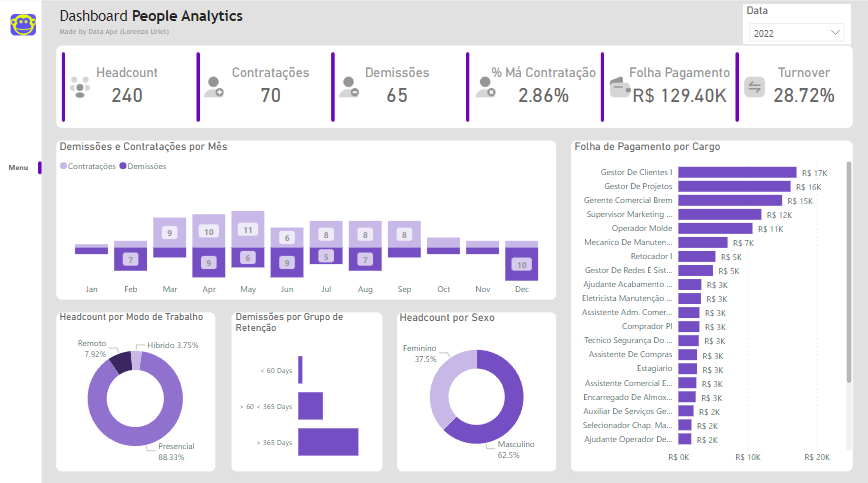

Layout of this report page (visuals, bound fields, positions):
{"tool":"powerbi","page":{"name":"OldDashboard","canvas":[1280,720],"ordinal":1},"visuals":[{"type":"image","box":[0,0,1280.6,720],"z":0},{"type":"slicer","title":"Data","fields":{"Values":["time.CurrentYear"]},"box":[1088.8,10.2,158,58.5],"z":1000},{"type":"card","title":"Headcount","fields":{"Values":["Measure.Headcount"]},"box":[130.2,99.5,114.1,64.4],"z":2000},{"type":"card","title":"Contratações","fields":{"Values":["Measure.Total Hiring"]},"box":[329.3,99.5,136.1,64.4],"z":3000},{"type":"card","title":"Demissões","fields":{"Values":["Measure.layoffs"]},"box":[525.4,99.5,114.1,64.4],"z":4000},{"type":"card","title":"% Má Contratação","fields":{"Values":["Measure.% Bad Hire"]},"box":[712.7,99.5,168.3,64.4],"z":5000},{"type":"card","title":"Folha Pagamento","fields":{"Values":["Measure.Payroll Value"]},"box":[916.1,99.5,159.5,64.4],"z":6000},{"type":"card","title":"Turnover","fields":{"Values":["Measure.Turnover"]},"box":[1121,99.5,114.1,64.4],"z":7000},{"type":"lineStackedColumnComboChart","title":"Demissões e Contratações por Mês","fields":{"Category":["time.CurrentMonth"],"Y":["Measure.Total Hiring","Measure.Layoffs Chart"]},"box":[83.3,208.7,734.3,235.5],"z":8000},{"type":"donutChart","title":"Headcount por Modo de Trabalho","fields":{"Y":["Measure.Headcount"],"Category":["employee.work"]},"box":[83.4,471.2,231.2,228.3],"z":9000},{"type":"donutChart","title":"Headcount por Sexo","fields":{"Y":["Measure.Headcount"],"Category":["employee.gender"]},"box":[581.2,459.4,236.4,232.8],"z":10000},{"type":"clusteredBarChart","title":"Folha de Pagamento por Cargo","fields":{"Y":["Measure.Payroll Value"],"Category":["role.name"]},"box":[837.1,209.3,415.6,482.9],"z":11000},{"type":"clusteredBarChart","title":"Demissões por Grupo de Retenção","fields":{"Category":["employee.retention_group"],"Y":["Measure.layoffs"]},"box":[340.3,459.4,222.1,240],"z":12000},{"type":"textbox","box":[9,234.6,51,29.6],"z":13000},{"type":"textbox","box":[83.3,9.9,302.7,58.2],"z":14000}]}

Visuals, with their boxes in screenshot pixels (x1, y1, x2, y2), scaled from the page's 1280x720 canvas onto the 868x483 screenshot:
image: [x1=0, y1=0, x2=867, y2=482]
"Data" slicer: [x1=738, y1=7, x2=845, y2=46]
"Headcount" card: [x1=88, y1=67, x2=166, y2=110]
"Contratações" card: [x1=223, y1=67, x2=316, y2=110]
"Demissões" card: [x1=356, y1=67, x2=434, y2=110]
"% Má Contratação" card: [x1=483, y1=67, x2=597, y2=110]
"Folha Pagamento" card: [x1=621, y1=67, x2=729, y2=110]
"Turnover" card: [x1=760, y1=67, x2=838, y2=110]
"Demissões e Contratações por Mês" lineStackedColumnComboChart: [x1=56, y1=140, x2=554, y2=298]
"Headcount por Modo de Trabalho" donutChart: [x1=57, y1=316, x2=213, y2=469]
"Headcount por Sexo" donutChart: [x1=394, y1=308, x2=554, y2=464]
"Folha de Pagamento por Cargo" clusteredBarChart: [x1=568, y1=140, x2=849, y2=464]
"Demissões por Grupo de Retenção" clusteredBarChart: [x1=231, y1=308, x2=381, y2=469]
textbox: [x1=6, y1=157, x2=41, y2=177]
textbox: [x1=56, y1=7, x2=262, y2=46]
